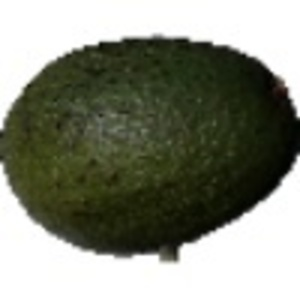abacate: (2, 34, 298, 253)
